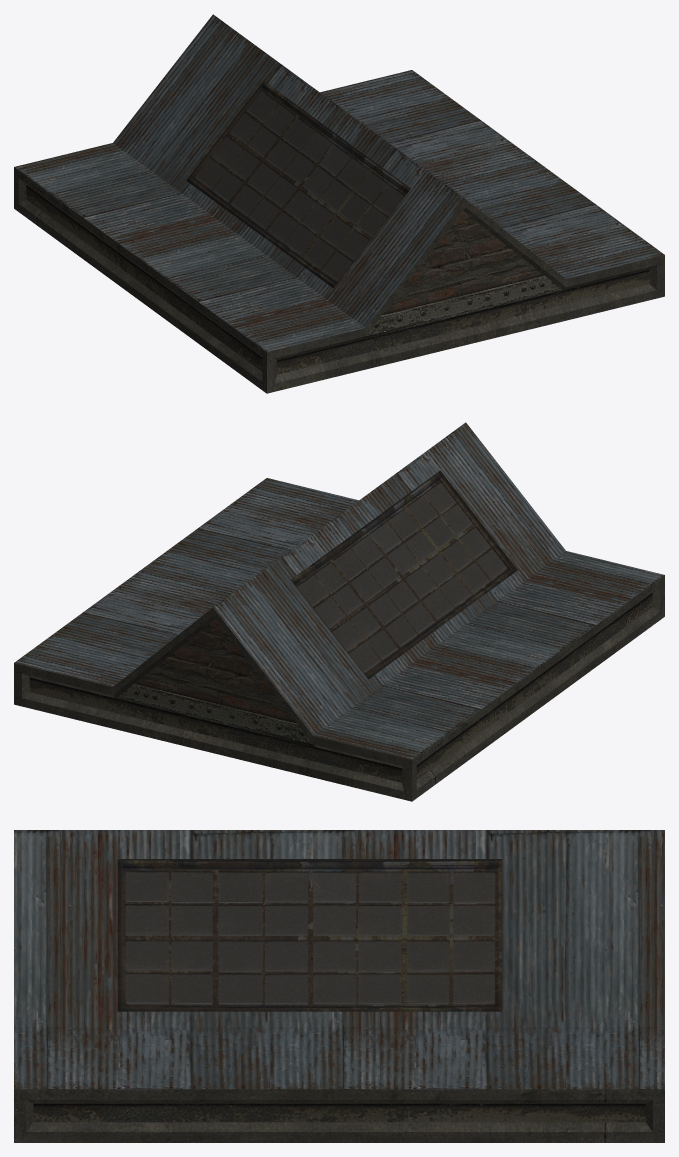
File: roof_bx_1_side.obj
3 renders of one model, top to bottom at view 1: azimuth 30°, elevation 25°; view 2: azimuth 150°, elevation 25°; view 3: azimuth 270°, elevation 25°, orthographic. The views are drawn at different scales.
Parts seen in each view (by area): view 1: roof_bx_1_side; view 2: roof_bx_1_side; view 3: roof_bx_1_side.
Boxes of the visible parts, x1=… form: roof_bx_1_side: x1=14, y1=14, x2=664, y2=393; roof_bx_1_side: x1=14, y1=422, x2=664, y2=801; roof_bx_1_side: x1=14, y1=830, x2=664, y2=1142.
Size of the model in its own units: 4 by 1.4 by 4.4.
